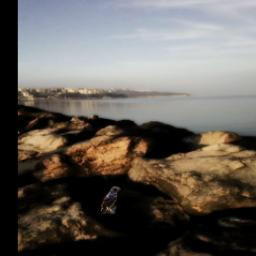Crow: (101, 186, 121, 214)
